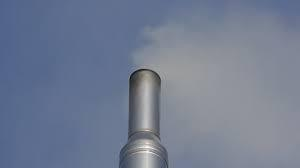smoke: (129, 11, 300, 120)
